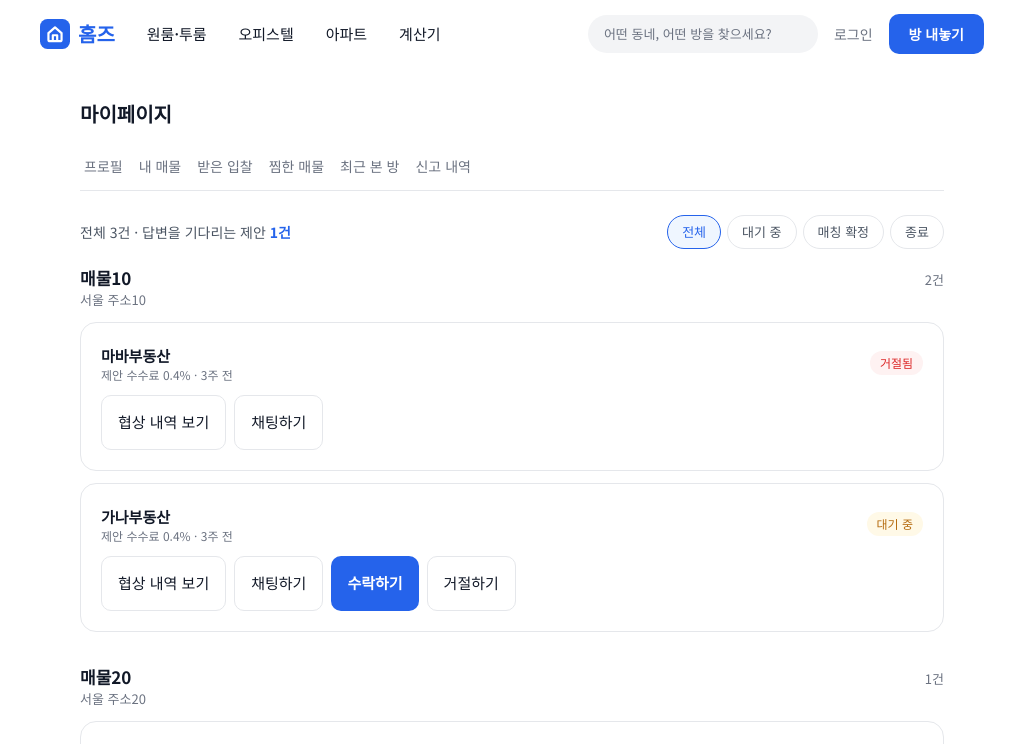
Test: MyReceivedBidsPage › filters by status and says so when nothing matches
Expected: the element "매물10" is shown, [80,264,944,632]
Step 1. Click the button "매칭 확정" → (843, 232), box [803,215,884,248]
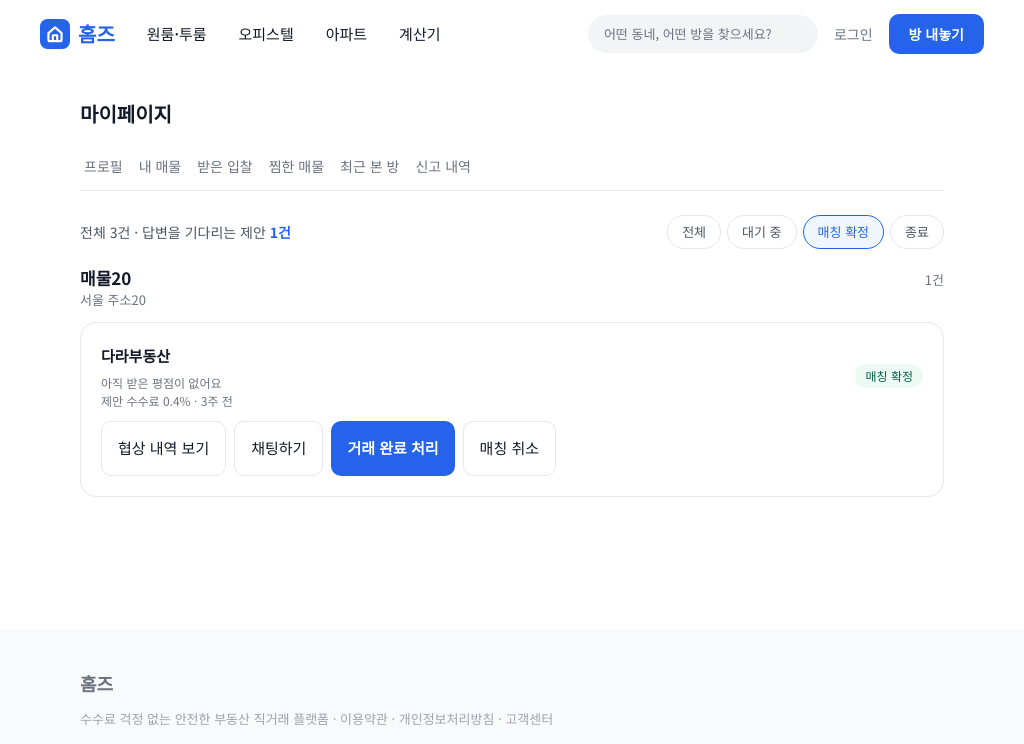
Expected: the element "매물20" is shown, [80,264,944,496]
Expected: the button "매물10" is gone
Step 2. Click the button "종료" → (917, 232), box [890,215,944,248]
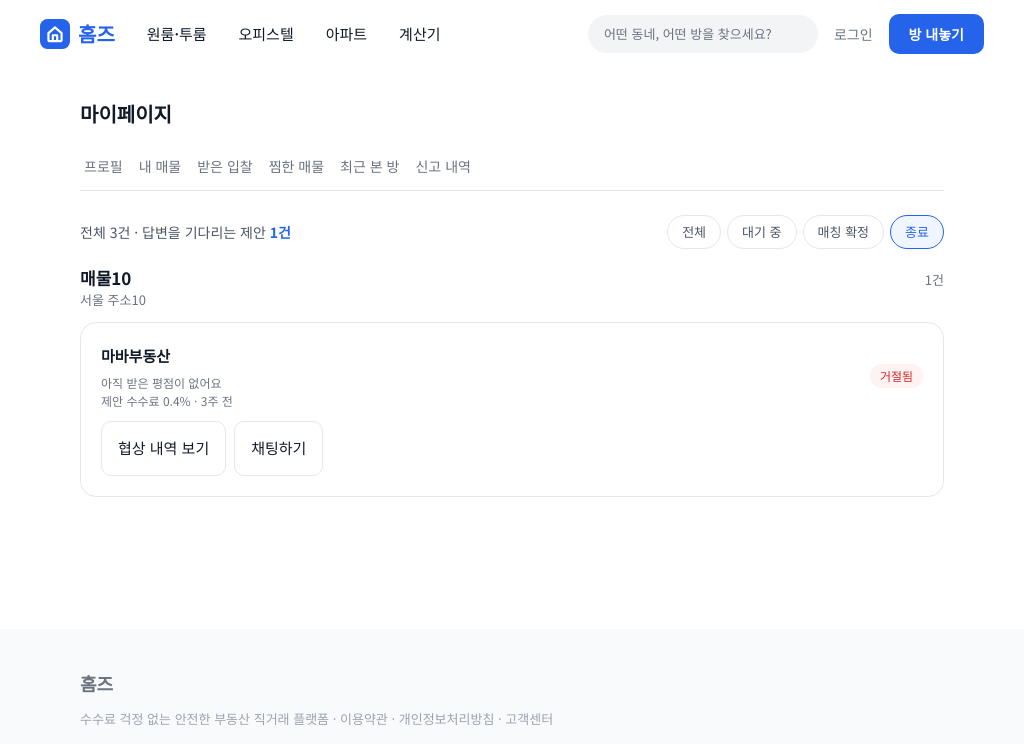
Expected: the button "가나부동산" is not shown
Expected: the button "마바부동산" is shown, [101,344,170,367]
